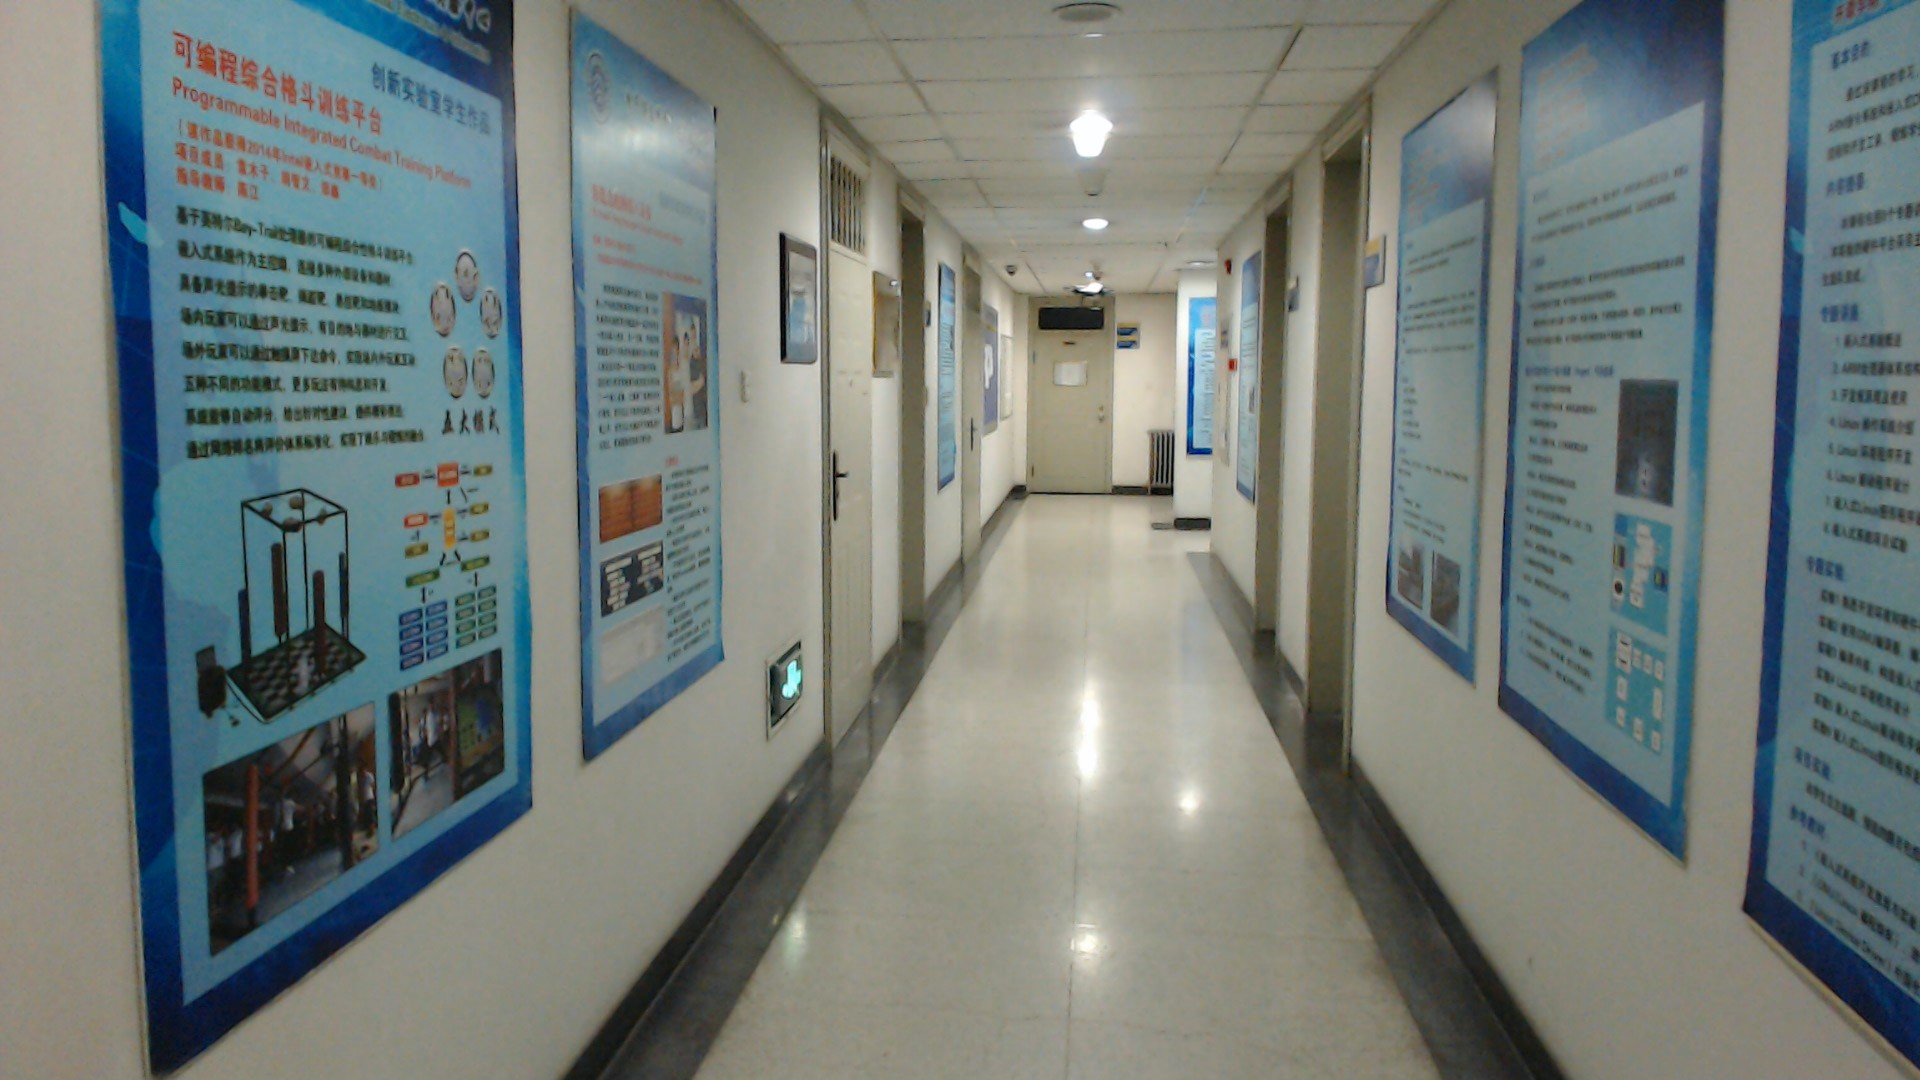test_drone: (1067, 278, 1120, 310)
